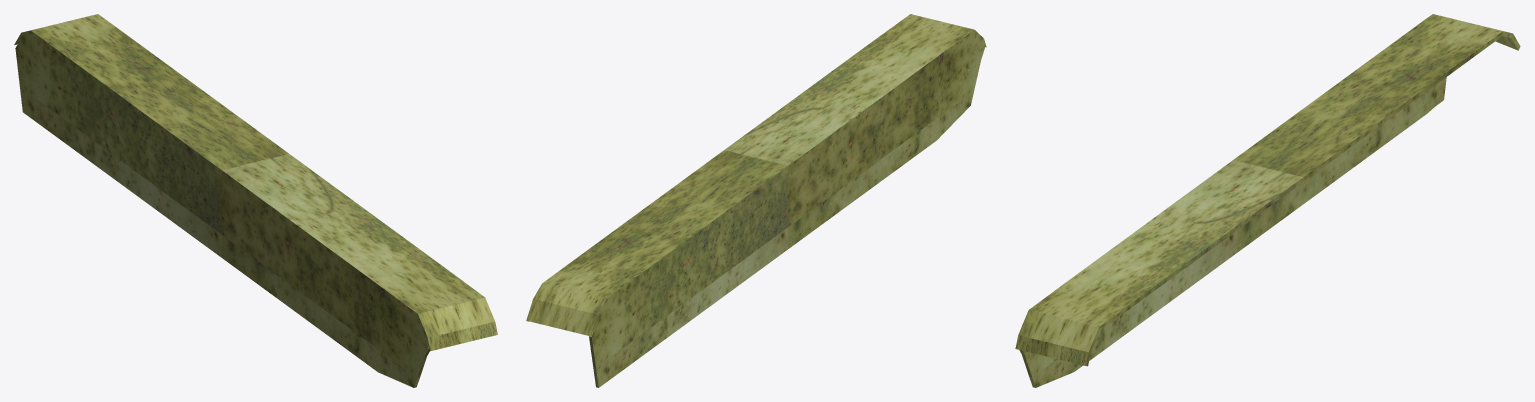
File: ПраваяЗащита.FBX
3 renders of one model, left to right at view 1: azimuth 30°, elevation 25°; view 2: azimuth 150°, elevation 25°; view 3: azimuth 330°, elevation 25°, orthographic. The views are drawn at different scales.
Visible parts, largest first — view 1: ПраваяЗащита; view 2: ПраваяЗащита; view 3: ПраваяЗащита.
Boxes of the visible parts, x1,y1,x2,y2 form: ПраваяЗащита: (14, 14, 497, 387); ПраваяЗащита: (526, 14, 986, 387); ПраваяЗащита: (1015, 14, 1520, 387).
Bounding box in the file's own units: 0.8695 × 1.08 × 9.3.
